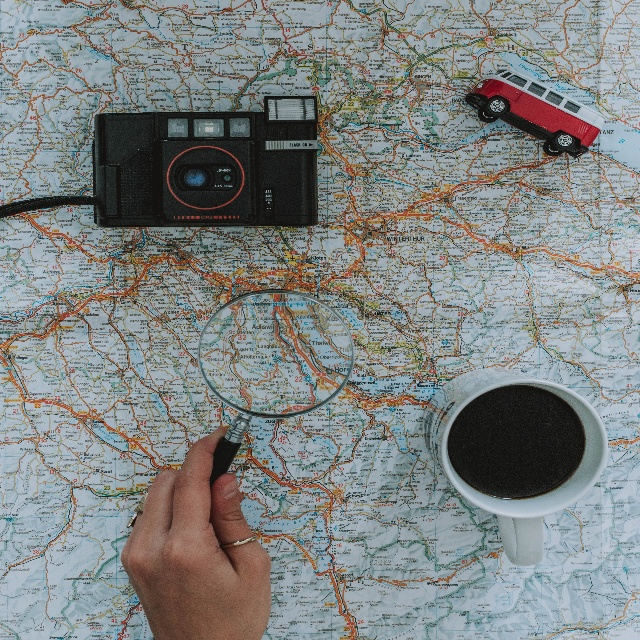Sin_guantes: (121, 425, 273, 640)
